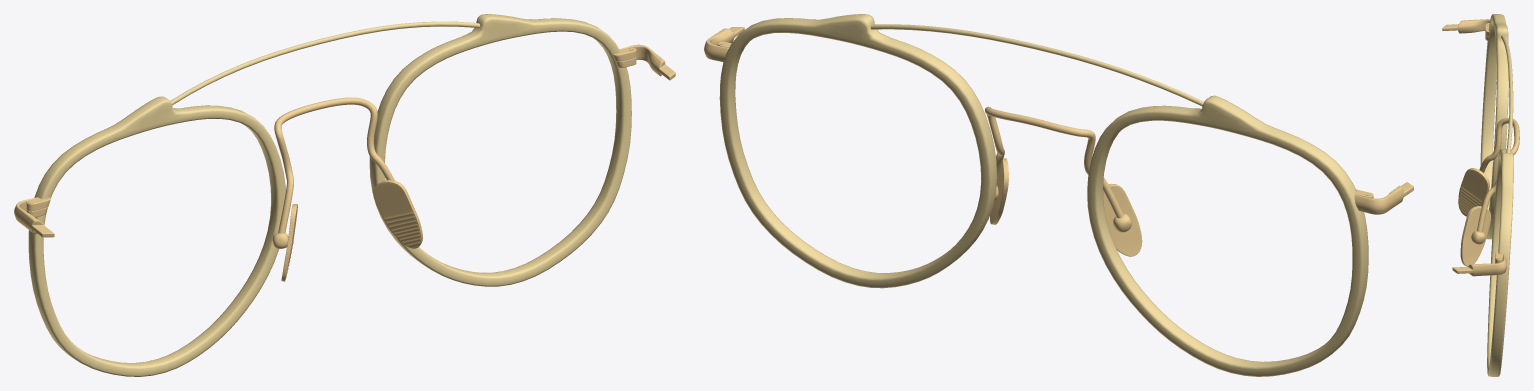
File: only_frame_1.glb
3 views of the same model, side by side, from view 1: azimuth 30°, elevation 25°; view 2: azimuth 150°, elevation 25°; view 3: azimuth 270°, elevation 25° (orthographic). The views are drawn at different scales.
Visible parts, largest first — view 1: frame; view 2: frame; view 3: frame.
Boxes of the visible parts, x1,y1,x2,y2 form: frame: (14,14,675,376); frame: (704,14,1413,376); frame: (1442,14,1519,376).
Size of the model in its own units: 0.1378 by 0.0572 by 0.0184.
